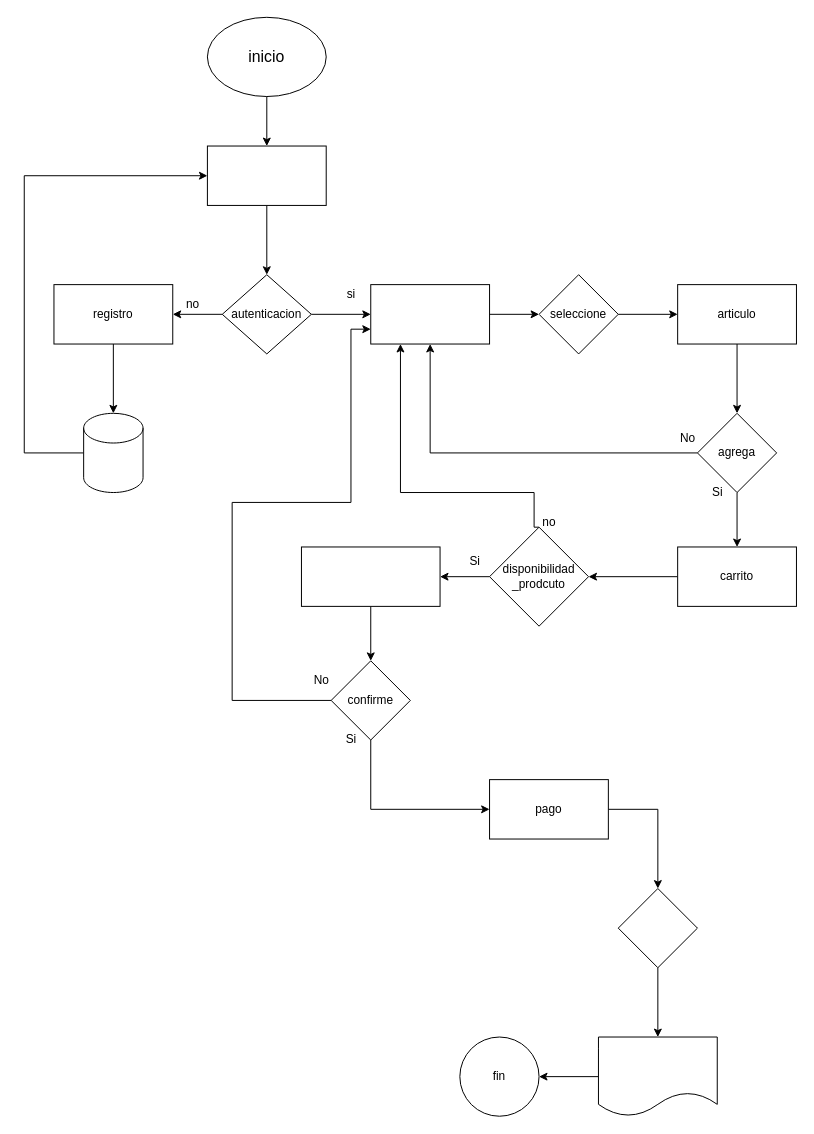
Image size: 814x1134. Some labels were removed from this diagram. The centre of each missing label's shape, as x and y in pixels:
Bd: the point at 113,452
compra: the point at 370,576
factura: the point at 657,1076
genere: the point at 657,928
login: the point at 266,175
ventas: the point at 430,314
